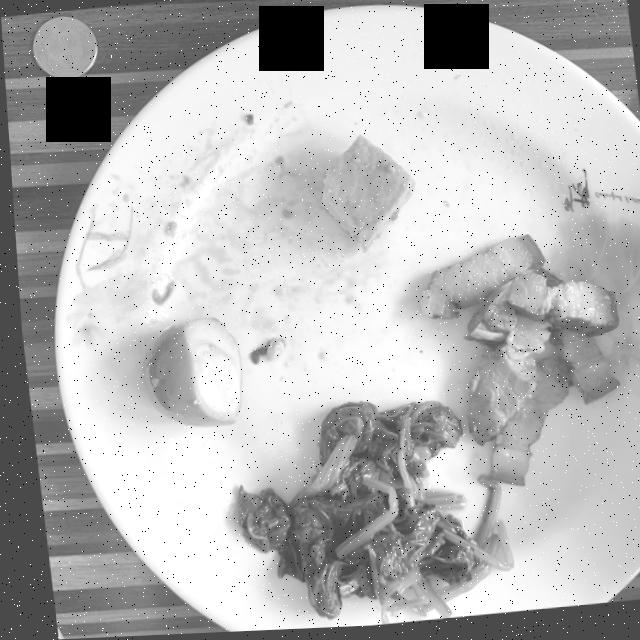coin: (32, 16, 97, 79)
creamy tofu: (318, 138, 411, 253)
grilled pork: (417, 239, 613, 490)
mustard greens: (231, 404, 505, 625)
soy egg: (137, 318, 237, 428)
